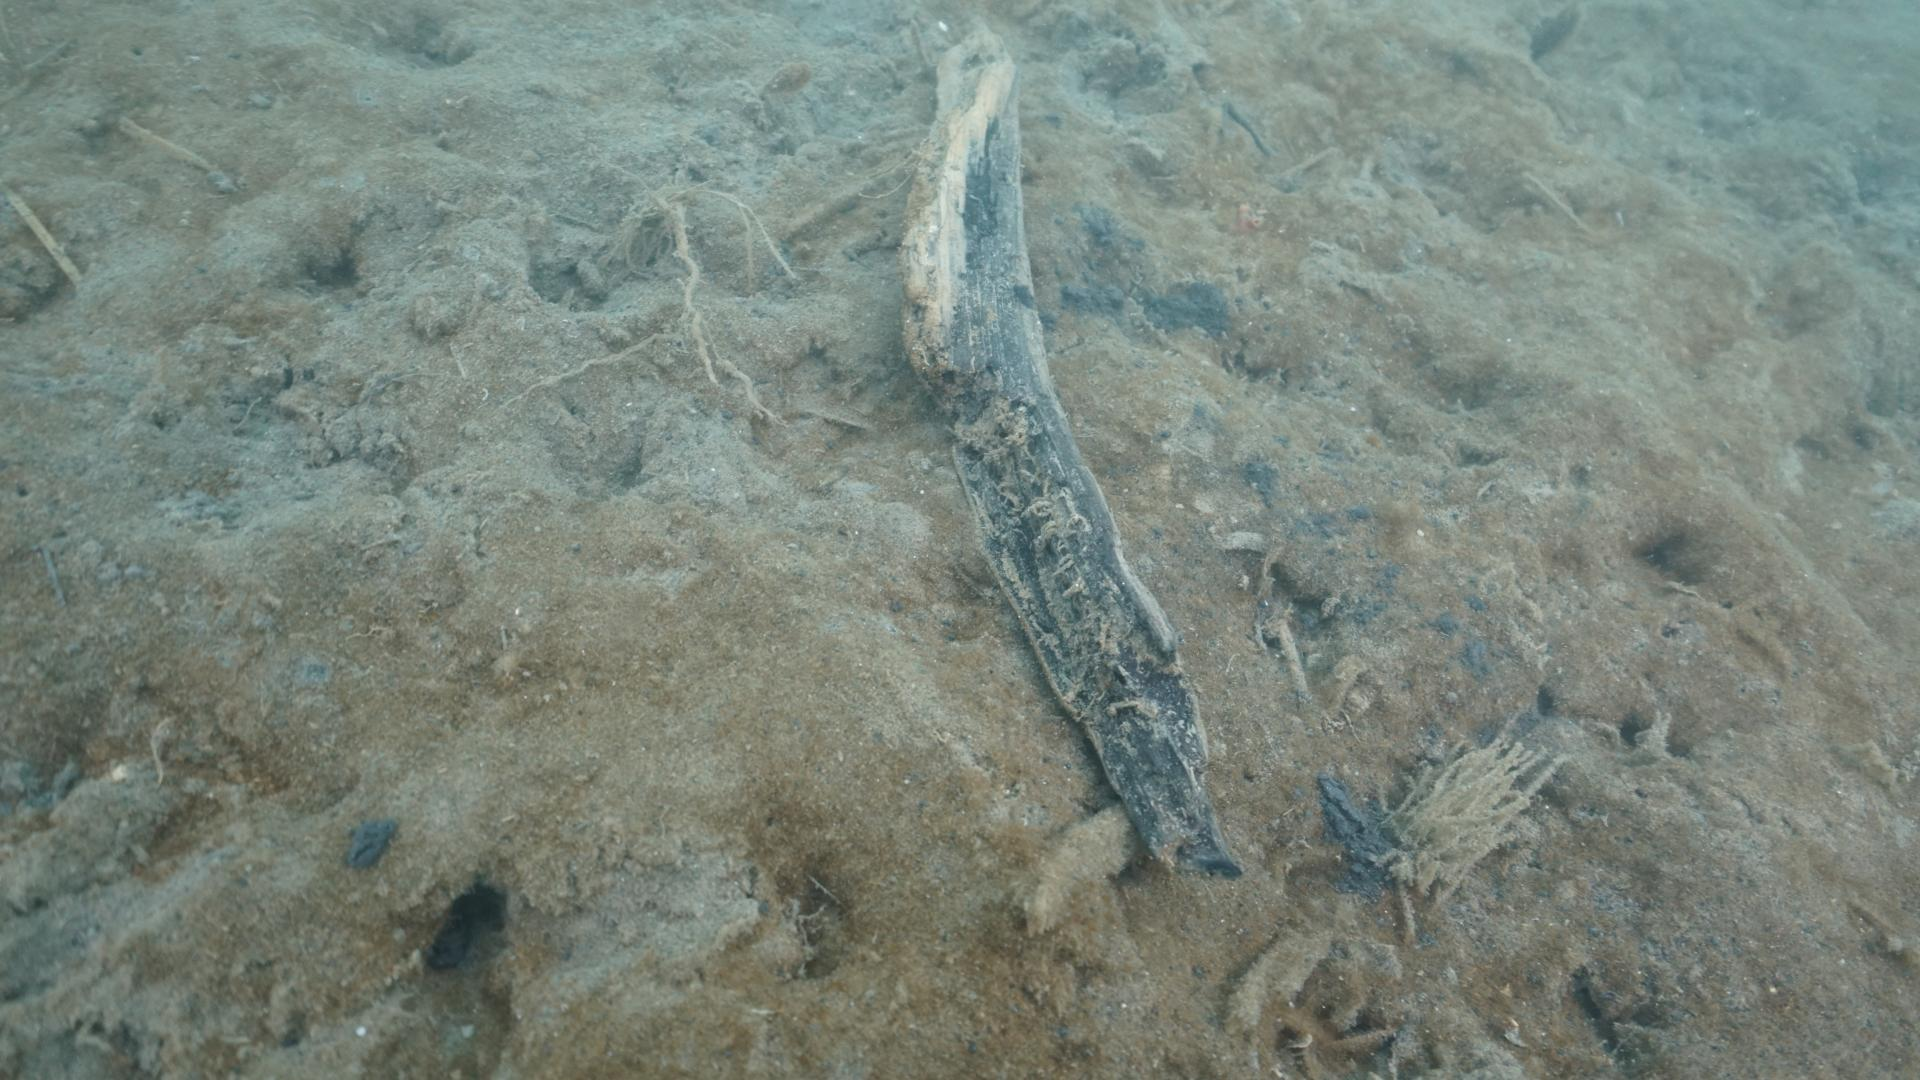wood: (890, 18, 1240, 884)
